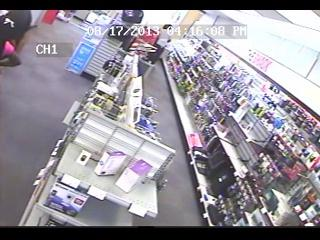Normal: (0, 10, 34, 68)
